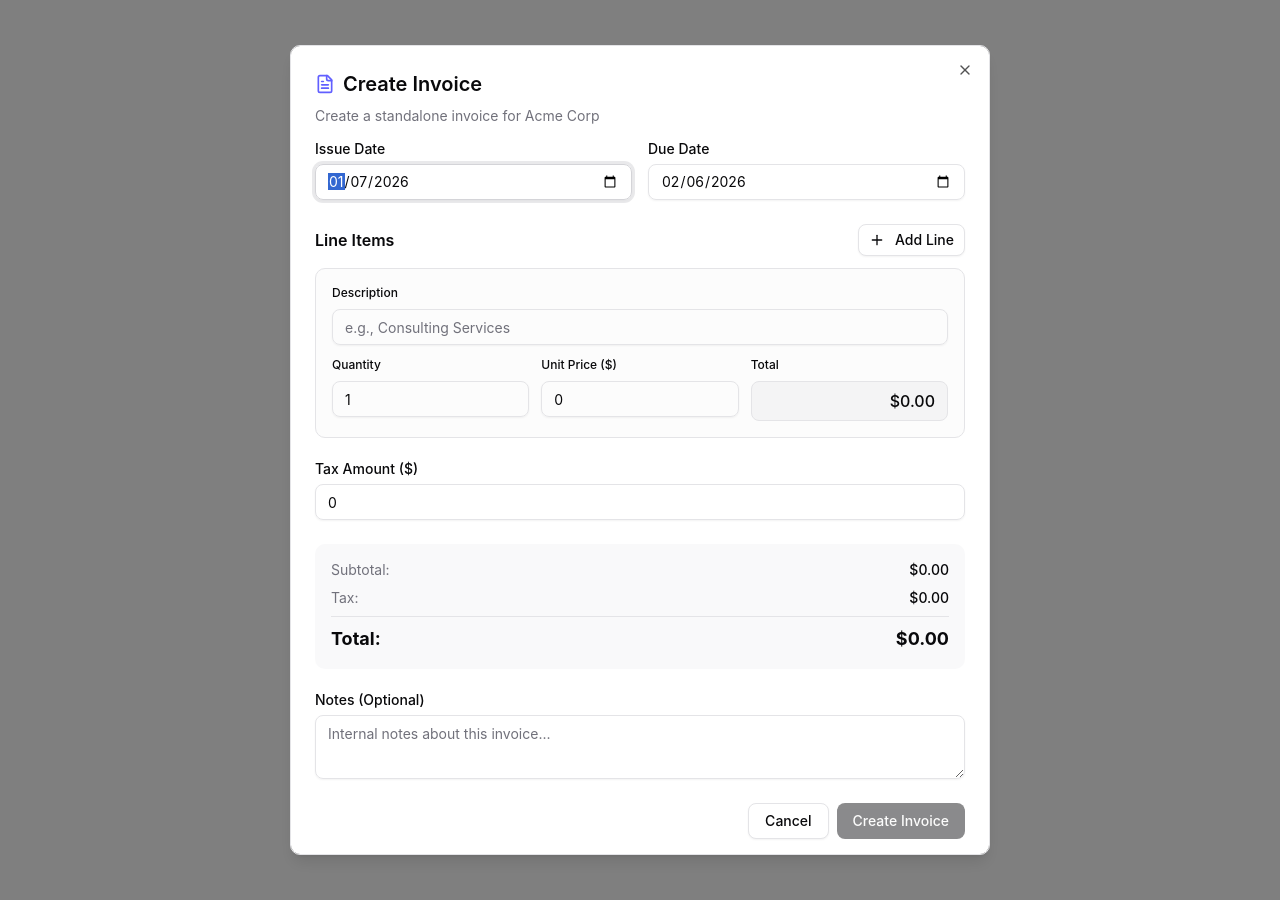
CreateStandaloneInvoiceDialog › Line Items Management › should add line item when Add Line is clicked
This screenshot has width=1280, height=900.
Click the button "Add Line". click: (912, 240)
box: [858,224,965,256]
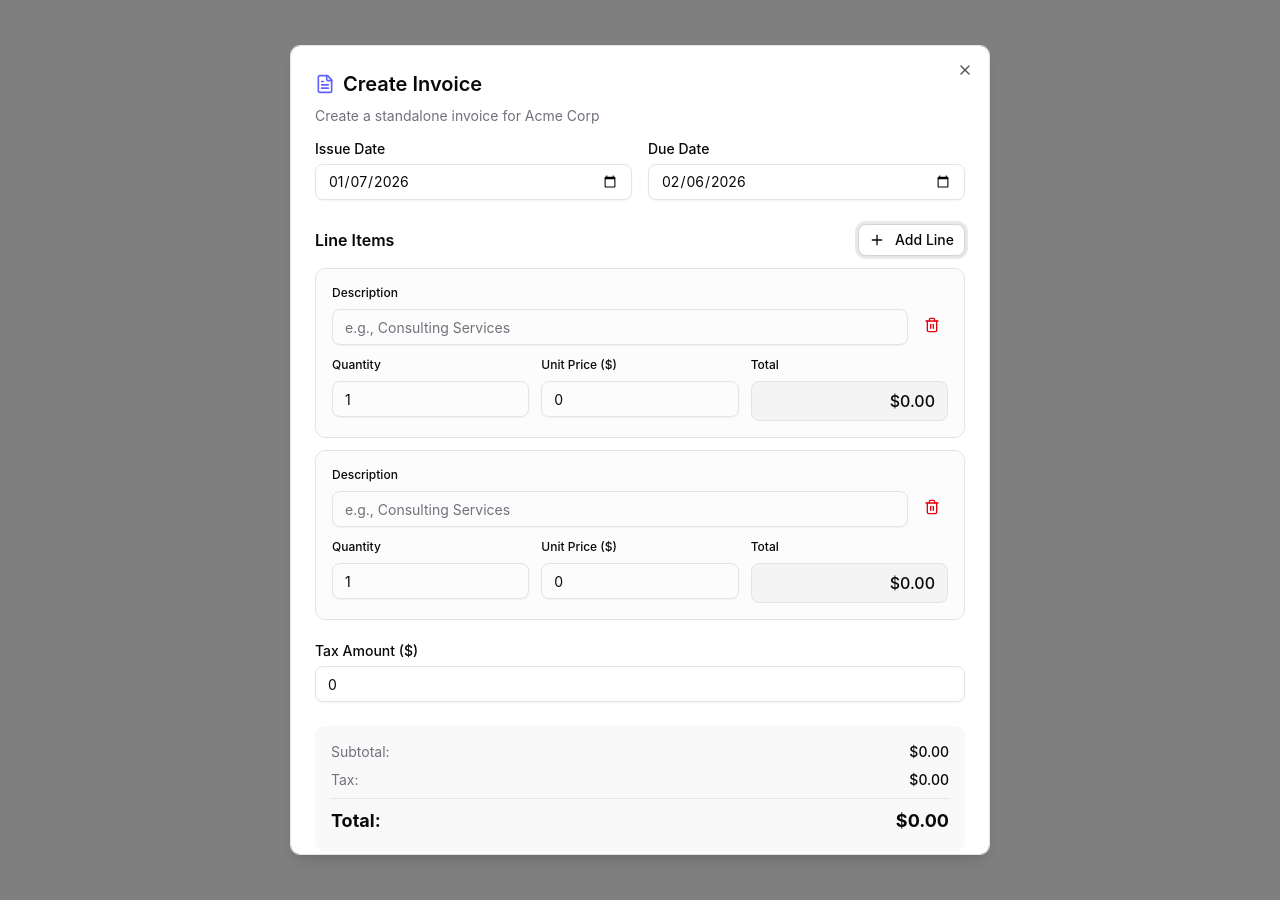
Expected: the number of fields with placeholder "e.g., Consulting Services" is 2, [332,309,908,345]; [332,491,908,527]
